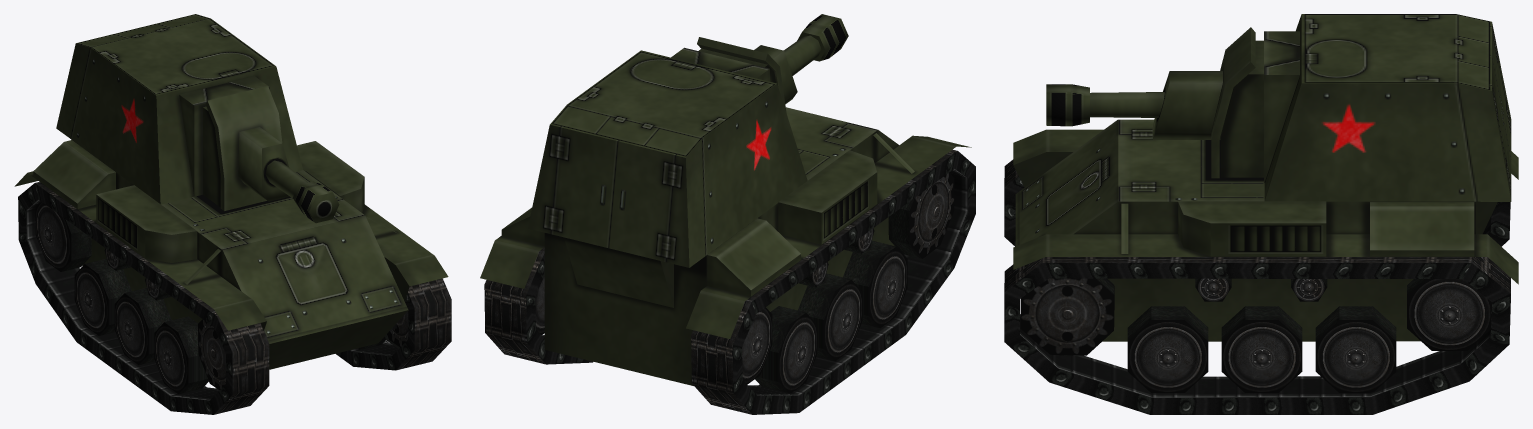
The model's file is SU76_SD_Model_Track.FBX.
The picture shows the model from 3 angles, left to right: view 1: azimuth 30°, elevation 25°; view 2: azimuth 150°, elevation 25°; view 3: azimuth 270°, elevation 25°; orthographic projection. The views are drawn at different scales.
Parts seen in each view (by area): view 1: Body, RightTrack, Cannon, LeftTrack; view 2: Body, RightTrack, LeftTrack, Cannon; view 3: Body, LeftTrack, Cannon, RightTrack.
Boxes of the visible parts, box(x1,y1,x2,y2) form: Body: box(14, 14, 448, 369); RightTrack: box(18, 182, 269, 414); Cannon: box(205, 86, 339, 223); LeftTrack: box(335, 278, 451, 370); Body: box(480, 47, 971, 385); RightTrack: box(691, 149, 975, 414); LeftTrack: box(484, 247, 593, 364); Cannon: box(697, 14, 848, 112); Body: box(1013, 14, 1518, 341); LeftTrack: box(1004, 257, 1510, 414); Cannon: box(1046, 27, 1255, 178); RightTrack: box(1004, 159, 1510, 246).
Bounding box in the file's own units: 0.9559 × 1.08 × 1.63.
Materials: 2 (2 with a texture image).
